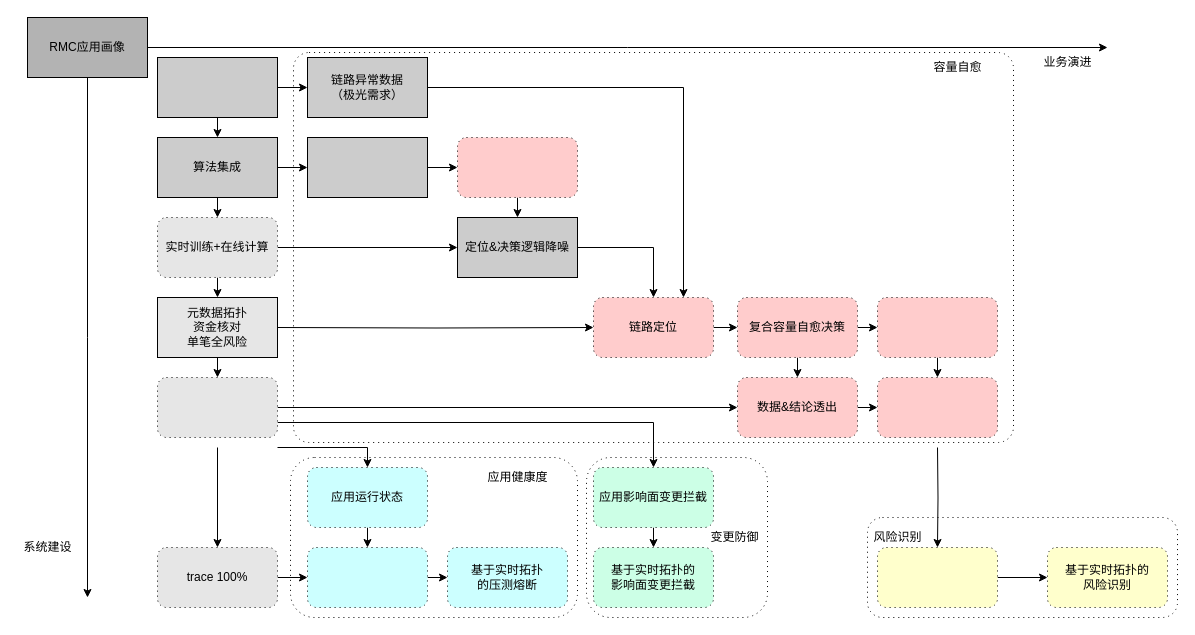
The diagram is 1195 pixels wide and 635 high, and some of its shapes have lost their labels. Here are the shapes that lost their labels. From the top down, the centre of each, then its label:
[217,87]: 取数&计算
[367,167]: 容量风险识别
[517,167]: 自愈决策
[937,327]: 容量计划决策
[217,407]: 模型抽象
[937,407]: 业务辅助模型优化
[367,577]: 基于实时拓扑的 应用运行状态
[937,577]: 业务风险识别
